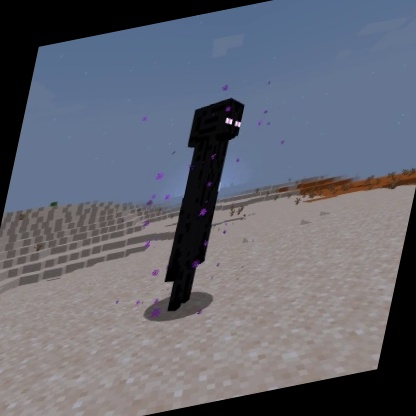enderman: (146, 92, 251, 320)
